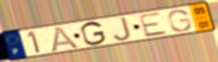1: (26, 29, 42, 54)
A: (49, 25, 81, 53)
E: (137, 11, 170, 39)
G: (79, 21, 108, 47), (166, 9, 193, 33)
J: (112, 16, 133, 42)
